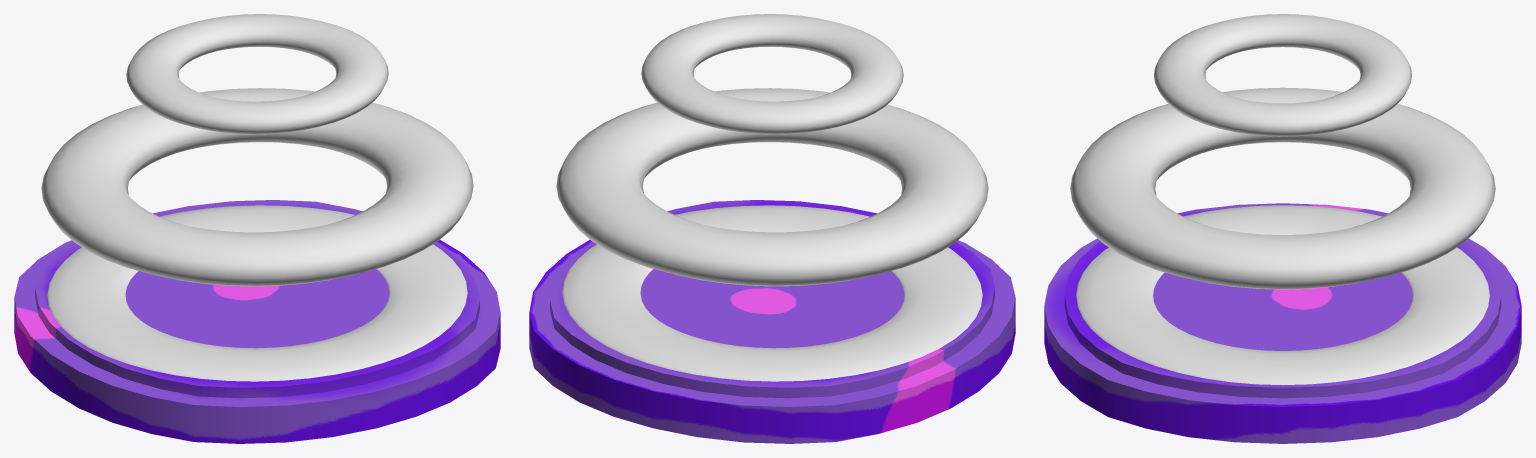
Rendered from teleporter.fbx.
The picture shows the model from 3 angles, left to right: view 1: azimuth 30°, elevation 25°; view 2: azimuth 150°, elevation 25°; view 3: azimuth 270°, elevation 25°; orthographic projection.
Visible parts, largest first — view 1: Plane.001, Torus.001, Torus.002, Torus.003; view 2: Plane.001, Torus.001, Torus.002, Torus.003; view 3: Plane.001, Torus.001, Torus.002, Torus.003.
Part boxes in pixels (box(x1,y1,x2,y2)): Plane.001: box(14, 200, 500, 443); Torus.001: box(41, 88, 473, 286); Torus.002: box(47, 205, 467, 381); Torus.003: box(126, 14, 388, 134); Plane.001: box(529, 200, 1015, 443); Torus.001: box(556, 88, 988, 286); Torus.002: box(562, 205, 982, 381); Torus.003: box(641, 14, 903, 134); Plane.001: box(1044, 203, 1521, 443); Torus.001: box(1070, 87, 1495, 289); Torus.002: box(1076, 205, 1489, 384); Torus.003: box(1154, 14, 1411, 136).
Size of the model in its own units: 550 by 356 by 550.
2 materials, 1 textured.
